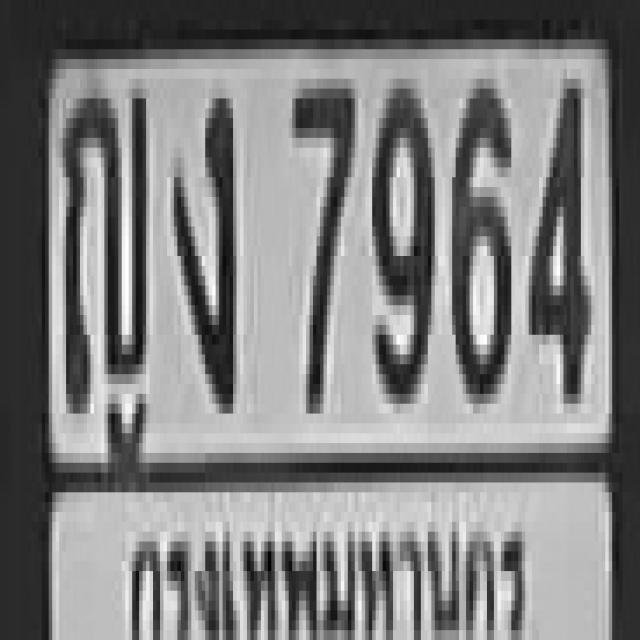16NgorNgu: (170, 89, 233, 404)
22YorYing: (59, 84, 146, 408)
4: (526, 69, 584, 394)
6: (449, 69, 508, 394)
7: (289, 79, 351, 404)
9: (369, 79, 431, 394)
Bangkok: (117, 486, 533, 638)
